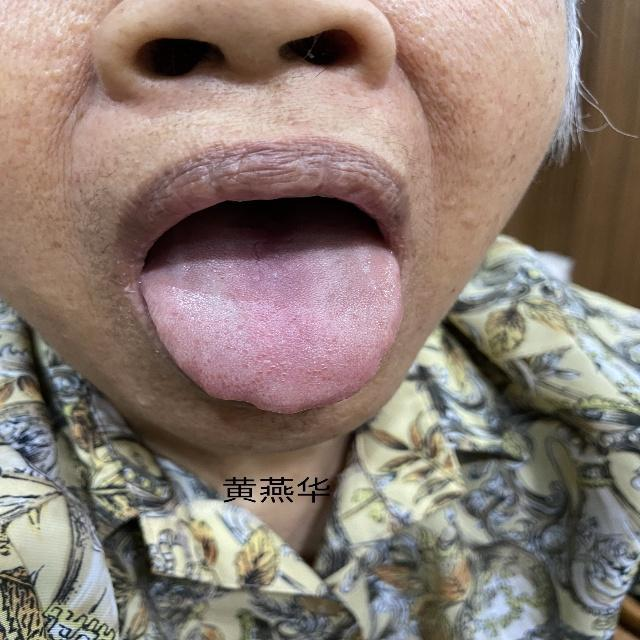baitaishe: (141, 245, 403, 414)
pangdashe: (141, 245, 403, 414)
